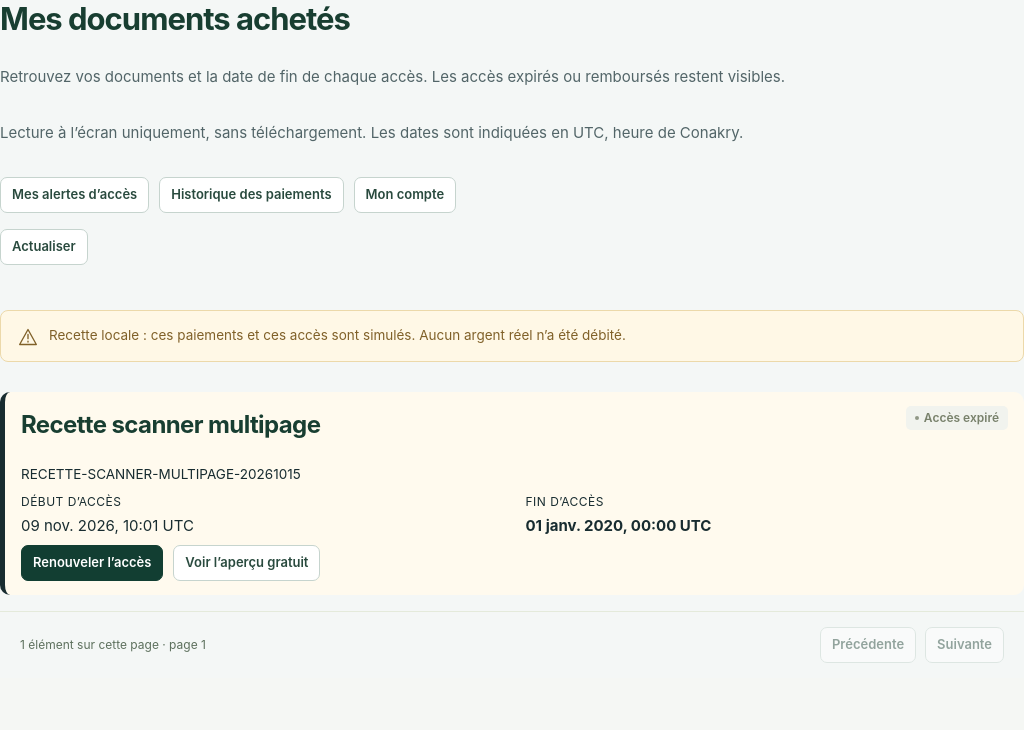
Test: un renouvellement sans tarif publié ou avec prestataire indisponible reste désactivé
Click the button "Renouveler l’accès".
click(92, 563)  # box [21, 545, 163, 581]
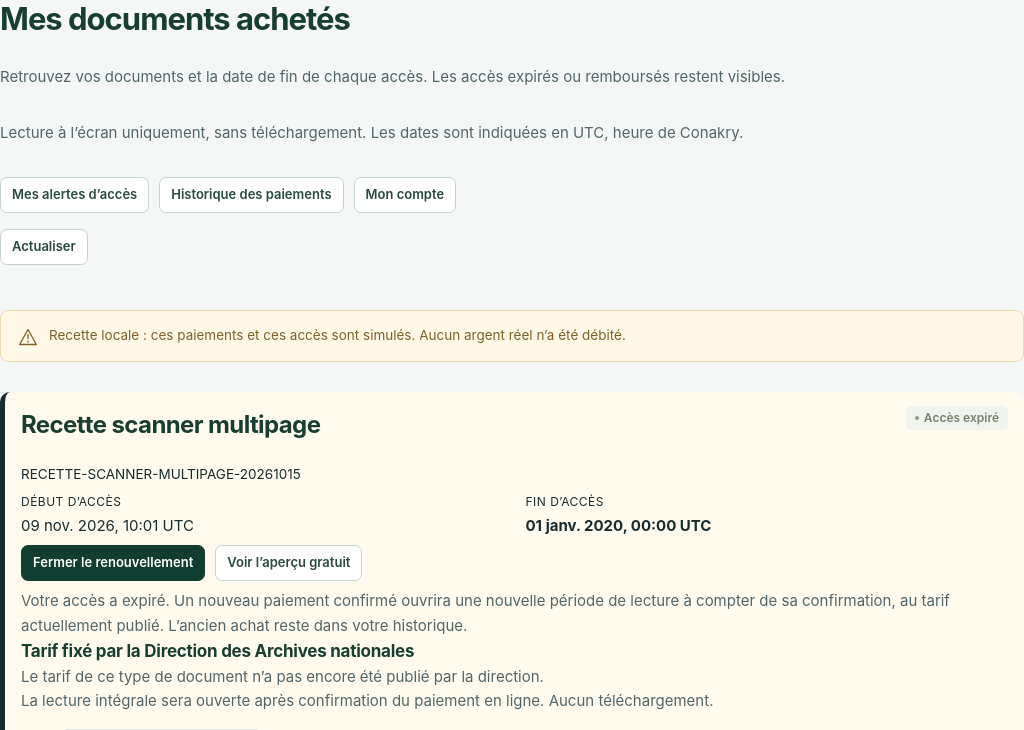
Now the text "n’a pas encore été publié" is shown, box [21, 667, 544, 686]
